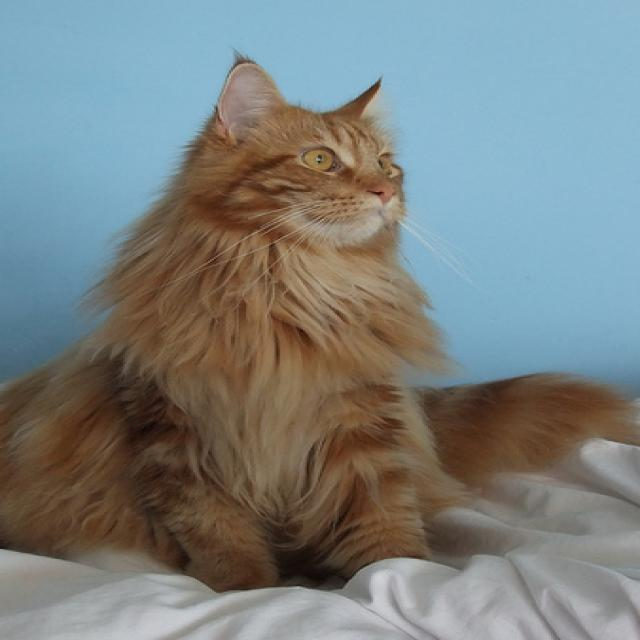Maine Coon: (0, 50, 640, 593)
